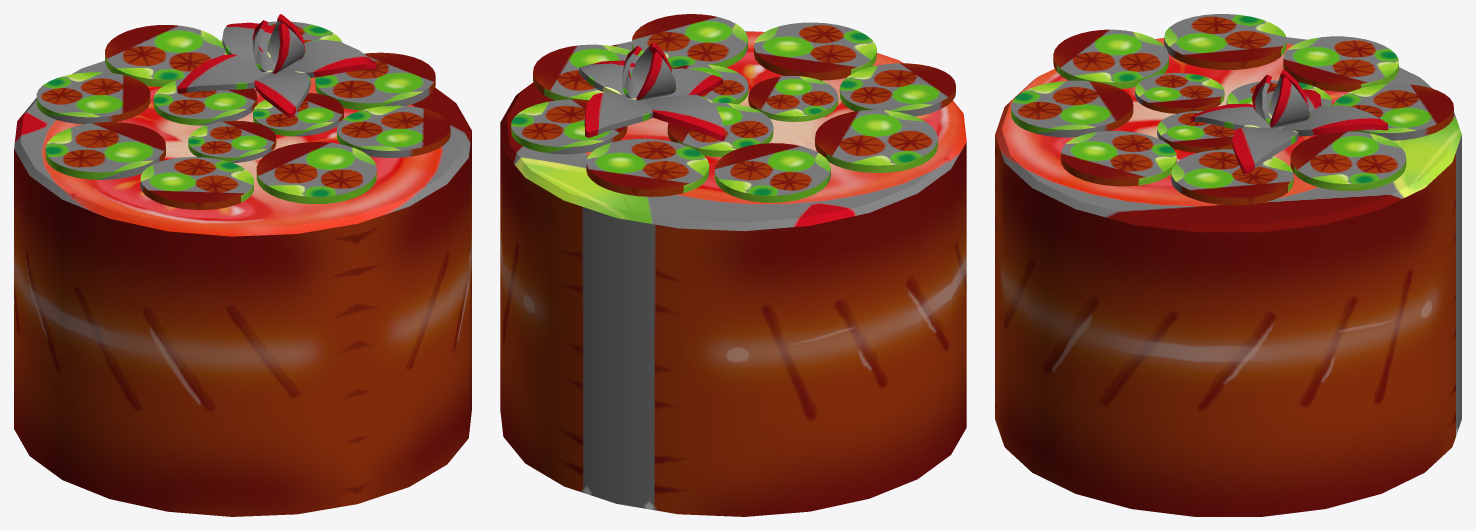
File: Bake collection.fbx
3 renders of one model, left to right at view 1: azimuth 30°, elevation 25°; view 2: azimuth 150°, elevation 25°; view 3: azimuth 270°, elevation 25°, orthographic.
Parts seen in each view (by area): view 1: Circle.010, tomato.016, tomato.018, tomato.015, tomato.021, tomato.020, tomato.019, tomato.017, tomato.023, tomato.025, tomato.024, Plane.008 (+7 smaller); view 2: Circle.010, tomato.018, tomato.015, tomato.016, tomato.020, tomato.021, tomato.019, tomato.022, tomato.025, tomato.017, tomato.023, Plane.008 (+7 smaller); view 3: Circle.010, tomato.016, tomato.018, tomato.022, tomato.021, tomato.019, tomato.020, tomato.017, tomato.015, tomato.025, tomato.024, Plane.007 (+5 smaller).
Boxes of the visible parts, x1,y1,x2,y2 form: Circle.010: [14, 40, 471, 516]; tomato.016: [256, 142, 376, 203]; tomato.018: [45, 122, 165, 179]; tomato.015: [105, 25, 225, 86]; tomato.021: [140, 157, 254, 209]; tomato.020: [36, 72, 150, 124]; tomato.019: [336, 105, 450, 157]; tomato.017: [315, 52, 435, 110]; tomato.023: [153, 78, 257, 125]; tomato.025: [188, 120, 276, 162]; tomato.024: [253, 92, 343, 136]; Plane.008: [177, 54, 271, 93]; Circle.010: [500, 31, 966, 516]; tomato.018: [815, 110, 937, 172]; tomato.015: [586, 138, 709, 196]; tomato.016: [753, 22, 876, 80]; tomato.020: [714, 143, 830, 202]; tomato.021: [839, 63, 955, 116]; tomato.019: [631, 14, 747, 69]; tomato.022: [511, 99, 627, 154]; tomato.025: [748, 76, 838, 121]; tomato.017: [533, 44, 641, 100]; tomato.023: [667, 102, 773, 156]; Plane.008: [645, 94, 725, 140]; Circle.010: [995, 37, 1461, 516]; tomato.016: [1011, 80, 1133, 137]; tomato.018: [1164, 14, 1286, 69]; tomato.022: [1290, 131, 1406, 190]; tomato.021: [1053, 29, 1168, 88]; tomato.019: [1061, 131, 1176, 186]; tomato.020: [1283, 36, 1398, 91]; tomato.017: [1171, 149, 1293, 205]; tomato.015: [1333, 83, 1454, 140]; tomato.025: [1135, 73, 1224, 113]; tomato.024: [1157, 111, 1235, 152]; Plane.007: [1281, 104, 1388, 136].
Bounding box in the file's own units: 6.02 × 5.38 × 6.08.
